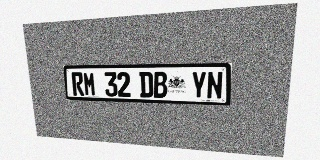2: (117, 72, 131, 97)
3: (104, 72, 118, 97)
B: (153, 72, 167, 98)
D: (139, 72, 153, 98)
M: (83, 72, 96, 96)
N: (207, 71, 223, 99)
R: (71, 72, 84, 96)
Y: (191, 71, 207, 99)
